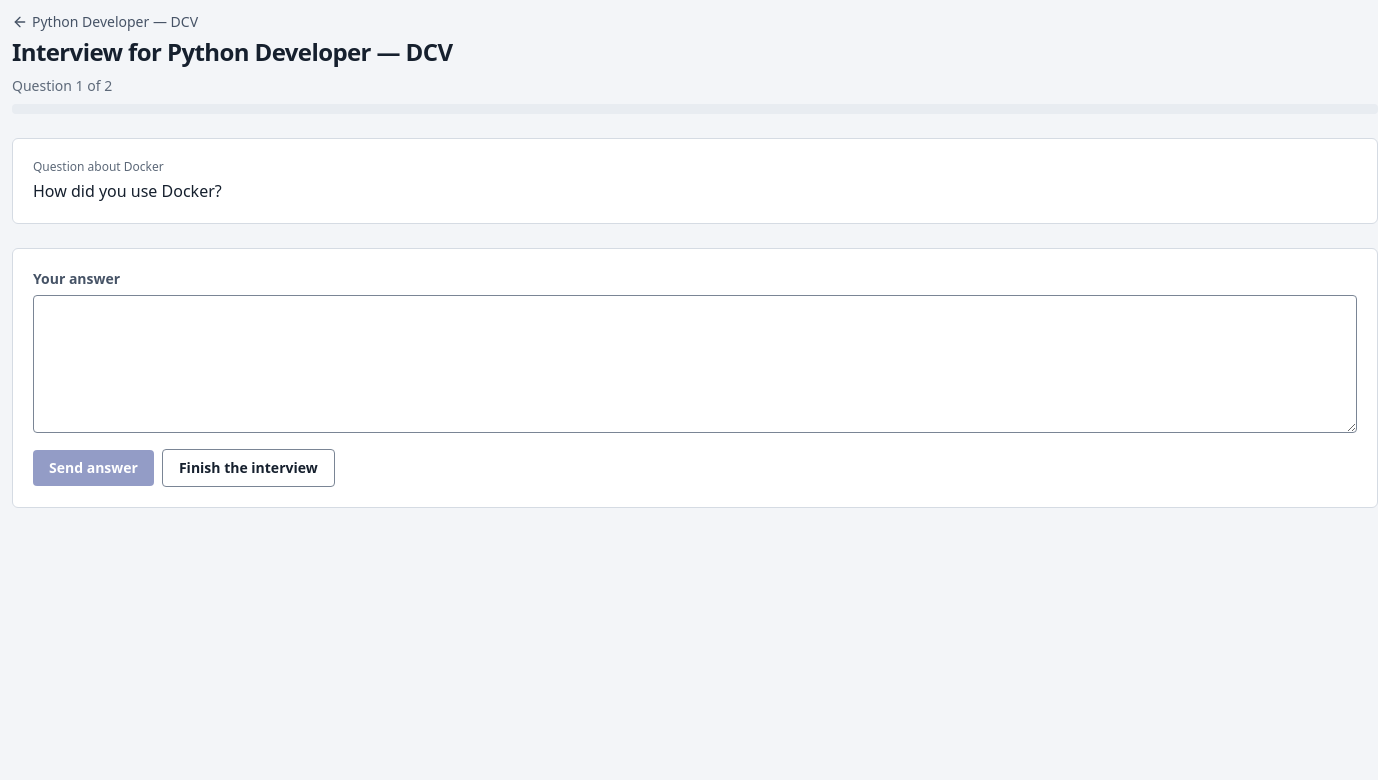
Test case: a failed answer keeps what was typed
The width and height of the screenshot is (1378, 780).
In the text box labelled "Your answer": (695, 364) [33, 295, 1357, 433], type "I containerised our API."
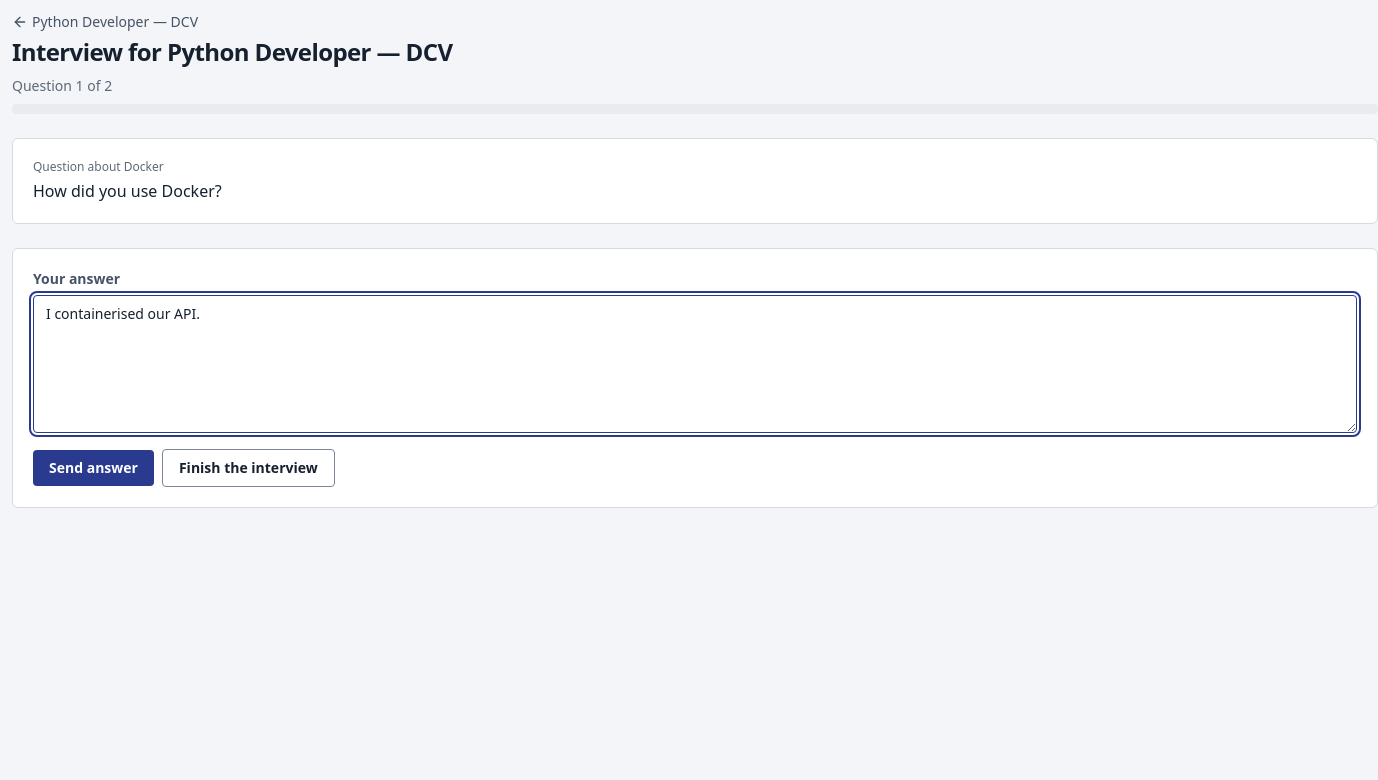
Click the button "Send answer": (93, 468) [33, 450, 154, 486]
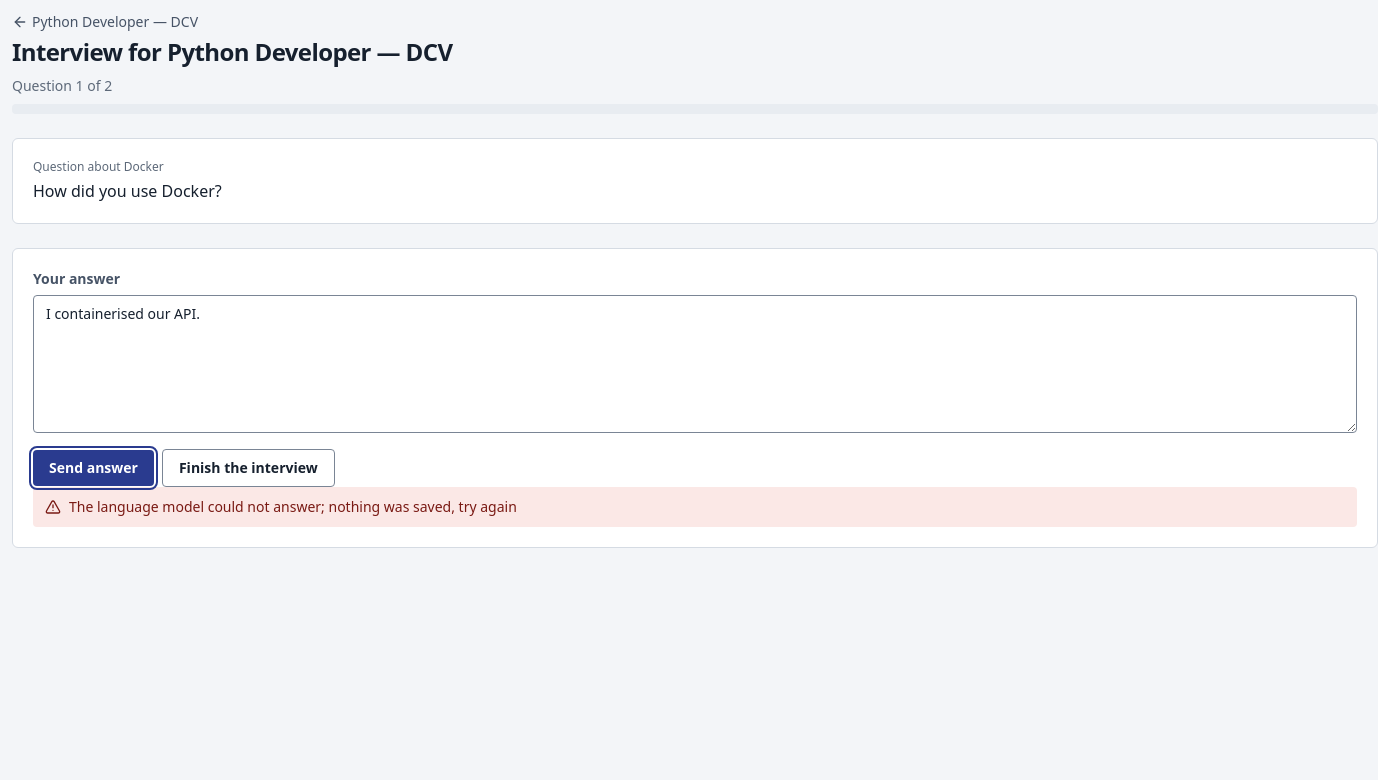
Result: the message shows "nothing was saved" at [69, 497, 517, 516]
